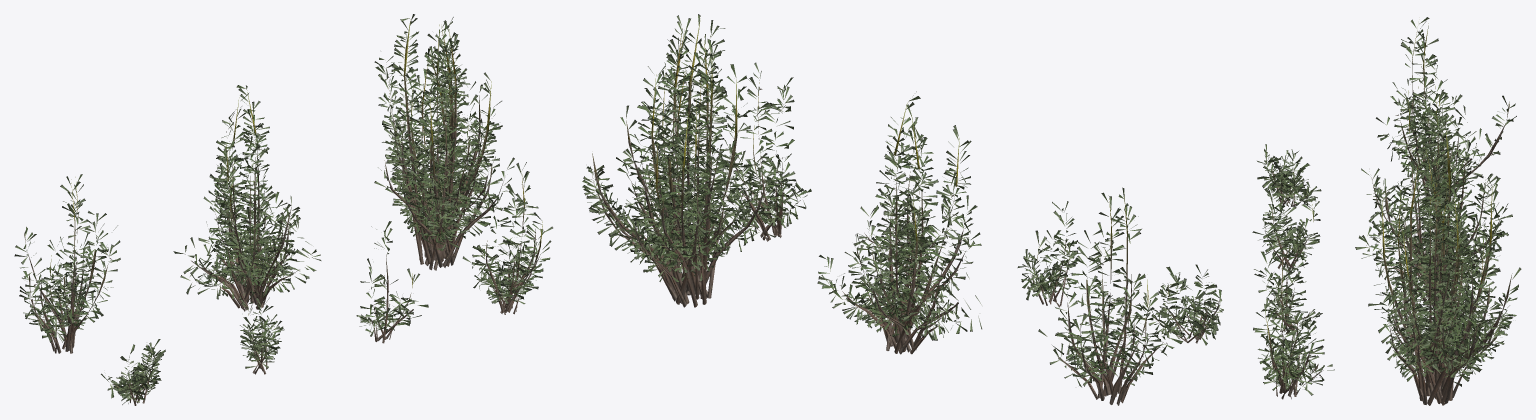
Rendered from othonna_cerarioides.glb.
3 renders of one model, left to right at view 1: azimuth 30°, elevation 25°; view 2: azimuth 150°, elevation 25°; view 3: azimuth 270°, elevation 25°, orthographic. The views are drawn at different scales.
Parts seen in each view (by area): view 1: othonna_cerarioides_a, othonna_cerarioides_b, othonna_cerarioides_c, othonna_cerarioides_d, othonna_cerarioides_e, othonna_cerarioides_f, othonna_cerarioides_g; view 2: othonna_cerarioides_a, othonna_cerarioides_b, othonna_cerarioides_c, othonna_cerarioides_d, othonna_cerarioides_g, othonna_cerarioides_f, othonna_cerarioides_e; view 3: othonna_cerarioides_a, othonna_cerarioides_b, othonna_cerarioides_c, othonna_cerarioides_d, othonna_cerarioides_f, othonna_cerarioides_g, othonna_cerarioides_e.
Part boxes in pixels (x1,y1,x2,y2): othonna_cerarioides_a: [374, 14, 514, 270]; othonna_cerarioides_b: [173, 85, 321, 311]; othonna_cerarioides_c: [14, 174, 120, 353]; othonna_cerarioides_d: [462, 162, 552, 314]; othonna_cerarioides_e: [356, 221, 428, 343]; othonna_cerarioides_f: [240, 286, 284, 374]; othonna_cerarioides_g: [101, 339, 165, 405]; othonna_cerarioides_a: [582, 14, 779, 307]; othonna_cerarioides_b: [817, 91, 981, 354]; othonna_cerarioides_c: [1038, 187, 1183, 405]; othonna_cerarioides_d: [718, 62, 811, 241]; othonna_cerarioides_g: [1142, 264, 1223, 345]; othonna_cerarioides_f: [1017, 201, 1080, 307]; othonna_cerarioides_e: [854, 130, 948, 273]; othonna_cerarioides_a: [1368, 119, 1521, 405]; othonna_cerarioides_b: [1355, 57, 1512, 307]; othonna_cerarioides_c: [1376, 17, 1516, 211]; othonna_cerarioides_d: [1253, 249, 1334, 399]; othonna_cerarioides_f: [1252, 173, 1320, 270]; othonna_cerarioides_g: [1257, 144, 1321, 206]; othonna_cerarioides_e: [1258, 206, 1322, 335].
Size of the model in its own units: 3.97 by 1.97 by 1.8.
Materials: 2 (2 with a texture image).
